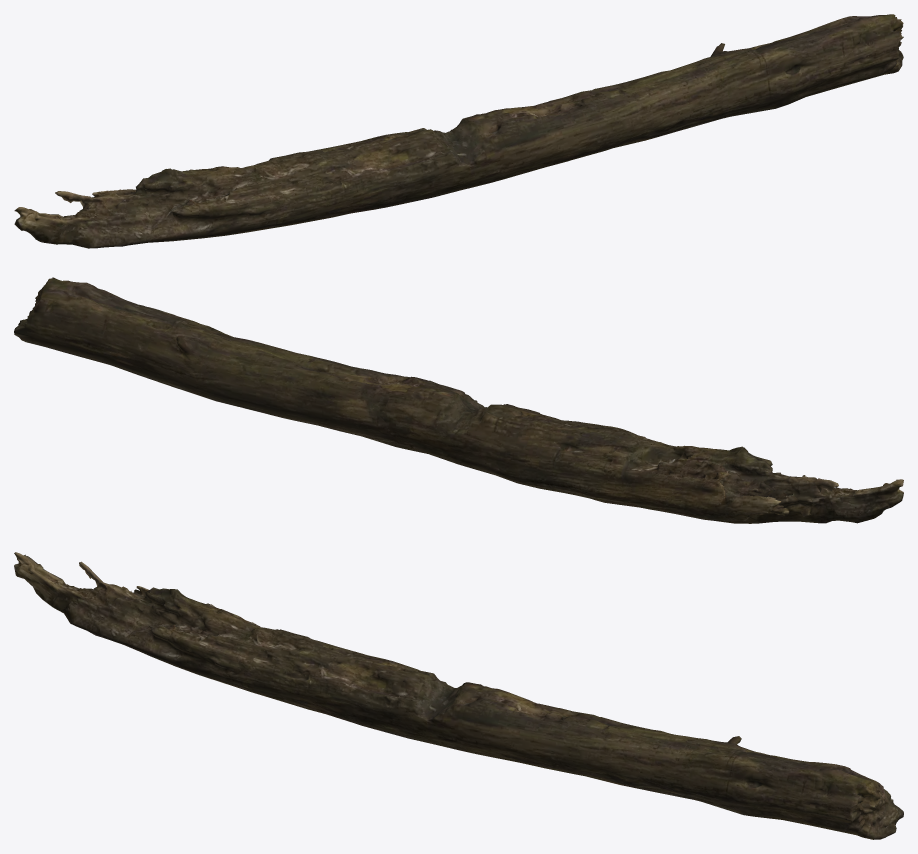
The model's file is dead_tree_trunk.glb.
3 renders of one model, top to bottom at view 1: azimuth 30°, elevation 25°; view 2: azimuth 150°, elevation 25°; view 3: azimuth 330°, elevation 25°, orthographic.
Visible parts, largest first — view 1: dead_tree_trunk; view 2: dead_tree_trunk; view 3: dead_tree_trunk.
Part boxes in pixels (x1,y1,x2,y2): dead_tree_trunk: [14, 14, 903, 248]; dead_tree_trunk: [14, 277, 903, 523]; dead_tree_trunk: [14, 552, 903, 839].
Size of the model in its own units: 3.05 by 0.2898 by 0.2775.
1 material, 1 textured.
